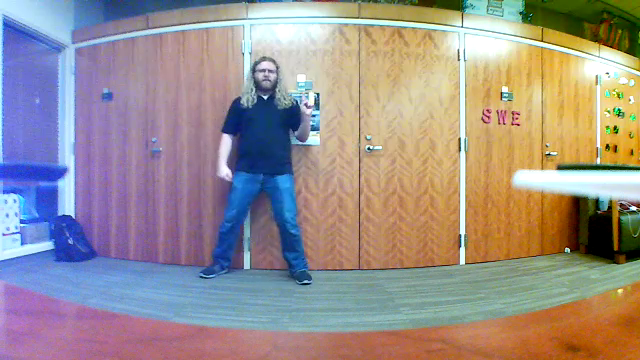up: (294, 84, 316, 115)
